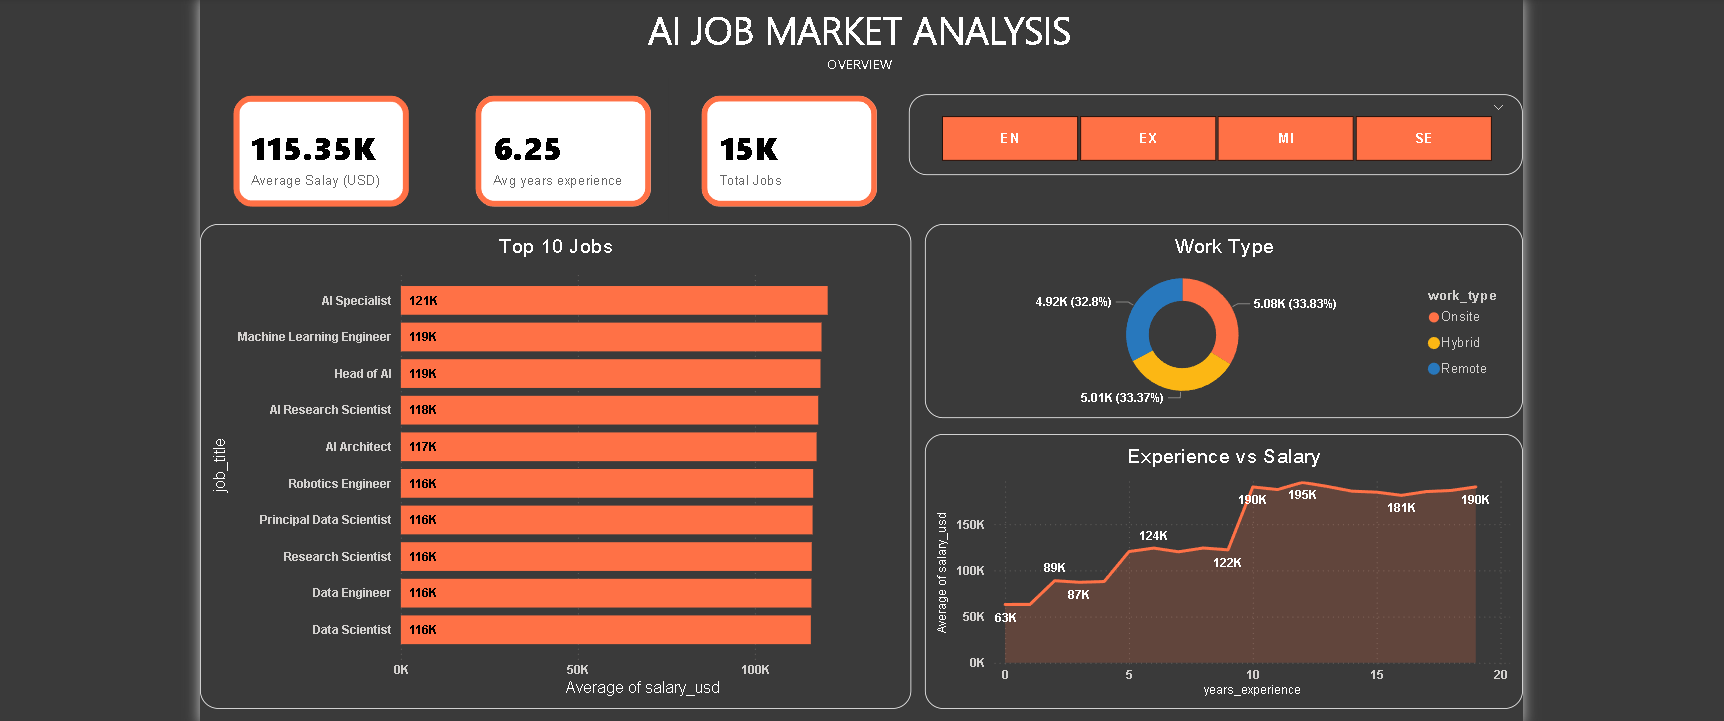

What the dashboard file says about the page in this screenshot:
{"tool":"powerbi","page":{"name":"Overview","canvas":[1310,720],"ordinal":0},"visuals":[{"type":"textbox","box":[-2,0,1312,80],"z":0},{"type":"cardVisual","fields":{"Data":["Avg(ai_jobs_cleaned.salary_usd)"]},"box":[16,80,208,144],"z":1000},{"type":"cardVisual","fields":{"Data":["CountNonNull(ai_jobs_cleaned.job_id)"]},"box":[480,80,208,144],"z":2000},{"type":"cardVisual","fields":{"Data":["Avg(ai_jobs_cleaned.years_experience)"]},"box":[256,80,208,144],"z":3000},{"type":"clusteredBarChart","title":"Top 10 Jobs","fields":{"Category":["ai_jobs_cleaned.job_title"],"Y":["Avg(ai_jobs_cleaned.salary_usd)"]},"box":[0,224,704,480],"z":4000},{"type":"donutChart","title":"Work Type","fields":{"Y":["CountNonNull(ai_jobs_cleaned.job_id)"],"Category":["ai_jobs_cleaned.work_type"]},"box":[718,224,592,192],"z":5000},{"type":"slicer","fields":{"Values":["ai_jobs_cleaned.experience_level"]},"box":[702,96,608,80],"z":6000},{"type":"lineChart","title":"Experience vs Salary","fields":{"Category":["ai_jobs_cleaned.years_experience"],"Y":["Avg(ai_jobs_cleaned.salary_usd)"]},"box":[718,432,592,272],"z":7000}]}

Visuals, with their boxes on the page's 1310x720 design canvas (x1, y1, x2, y2). These are canvas units, not pixel positions in the 1724x721 screenshot, which may show the page scaled, cropped or inside an application window:
textbox: (-2,0,1310,80)
cardVisual - Avg(ai_jobs_cleaned.salary_usd): (16,80,224,224)
cardVisual - CountNonNull(ai_jobs_cleaned.job_id): (480,80,688,224)
cardVisual - Avg(ai_jobs_cleaned.years_experience): (256,80,464,224)
"Top 10 Jobs" clusteredBarChart: (0,224,704,704)
"Work Type" donutChart: (718,224,1310,416)
slicer - ai_jobs_cleaned.experience_level: (702,96,1310,176)
"Experience vs Salary" lineChart: (718,432,1310,704)
